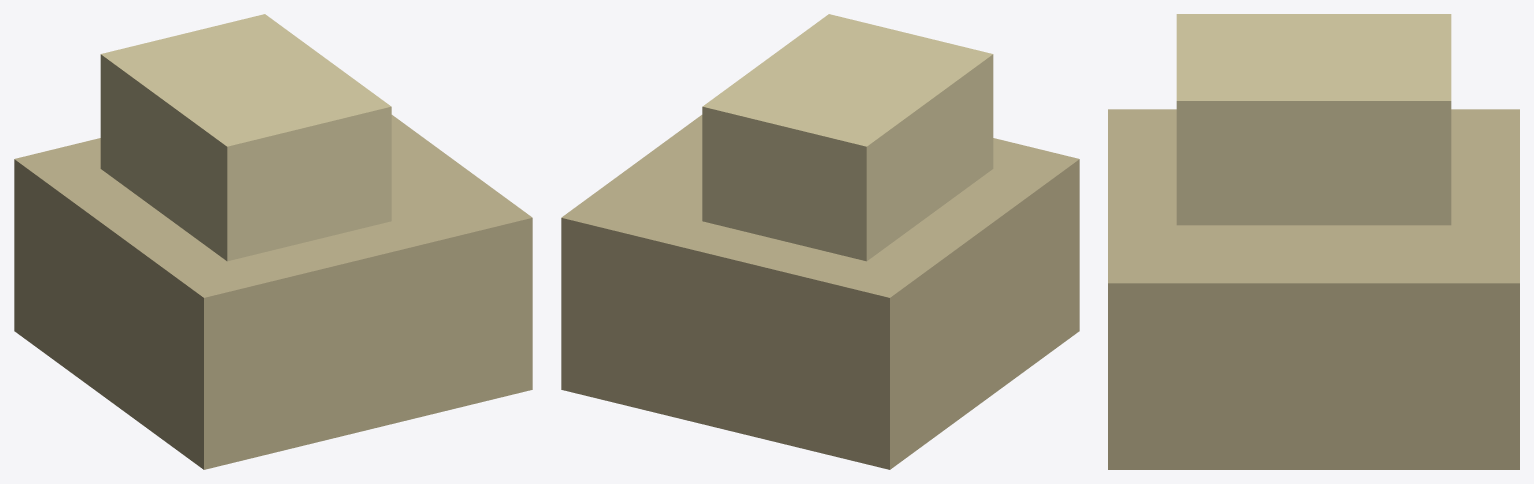
The model's file is diana_practica_guardia_01.glb.
The picture shows the model from 3 angles, left to right: view 1: azimuth 30°, elevation 25°; view 2: azimuth 150°, elevation 25°; view 3: azimuth 270°, elevation 25°; orthographic projection. The views are drawn at different scales.
Visible parts, largest first — view 1: diana_practica_guardia; view 2: diana_practica_guardia; view 3: diana_practica_guardia.
Boxes of the visible parts, <box> form: diana_practica_guardia: <box>14,14,532,469</box>; diana_practica_guardia: <box>561,14,1079,469</box>; diana_practica_guardia: <box>1108,14,1519,469</box>.
Size of the model in its own units: 0.6 by 0.5 by 0.6.
